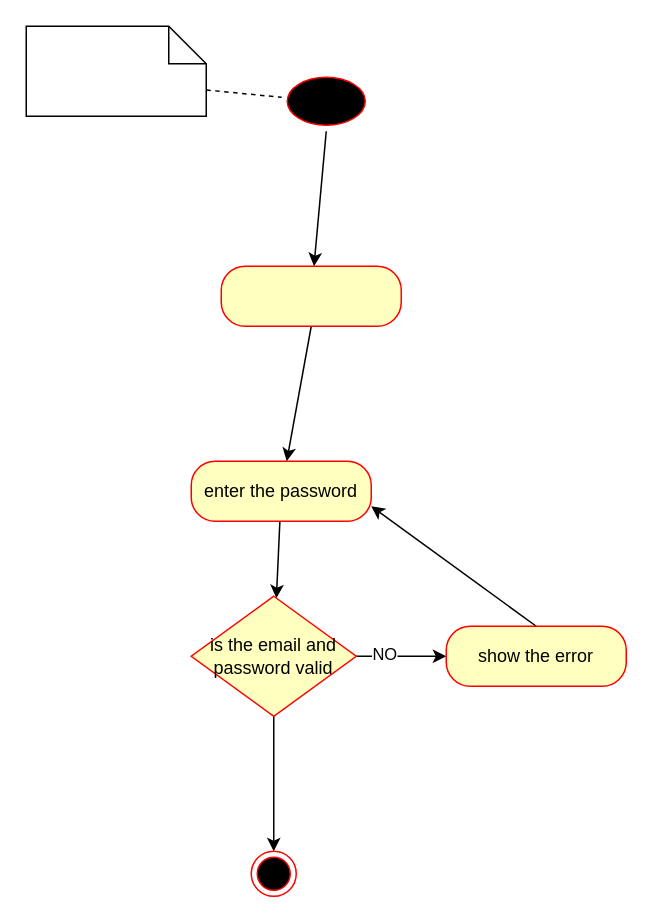
This 653x923 diagram has some shape labels left out. Each missing label, with the centre of its shape:
"enter the email" belongs at [310,295].
"registeration" belongs at [115,70].
